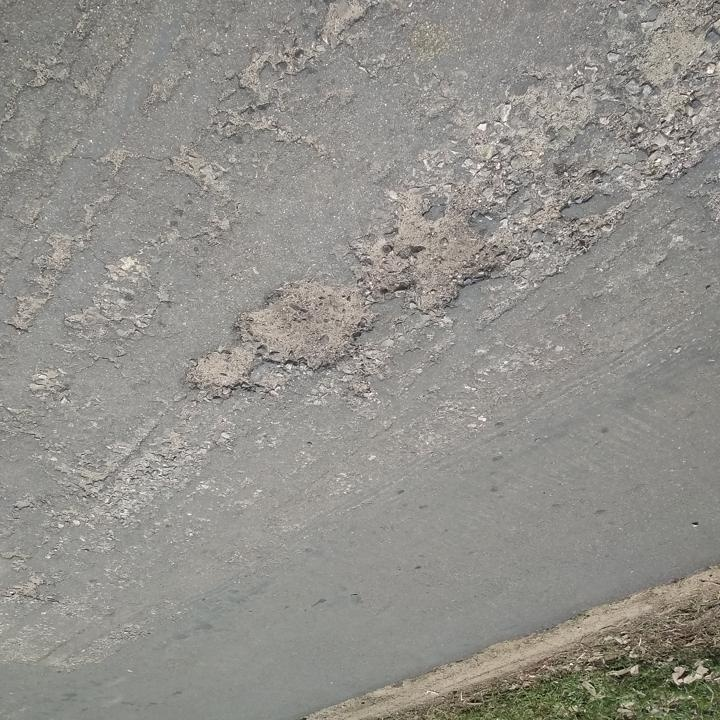pothole: (355, 196, 516, 321), (235, 278, 383, 376), (180, 345, 261, 401)
